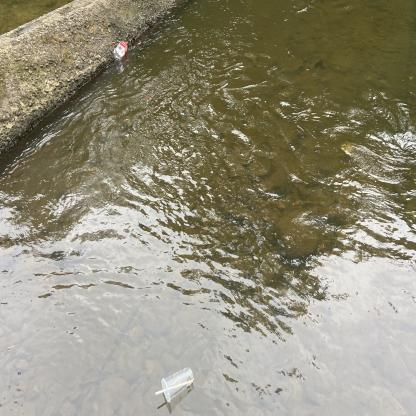trash: (153, 365, 195, 405), (112, 39, 130, 62)
